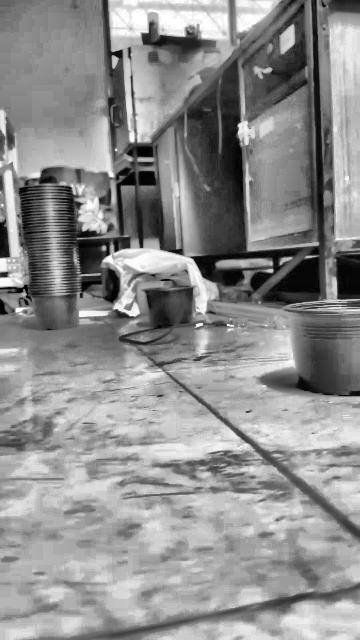pot: (282, 300, 360, 396), (143, 285, 194, 328)
